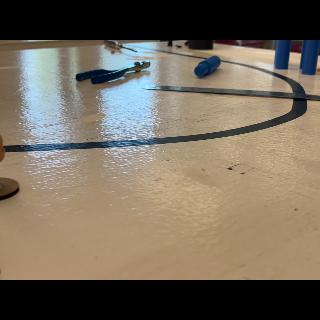teletubby: (0, 135, 5, 162)
